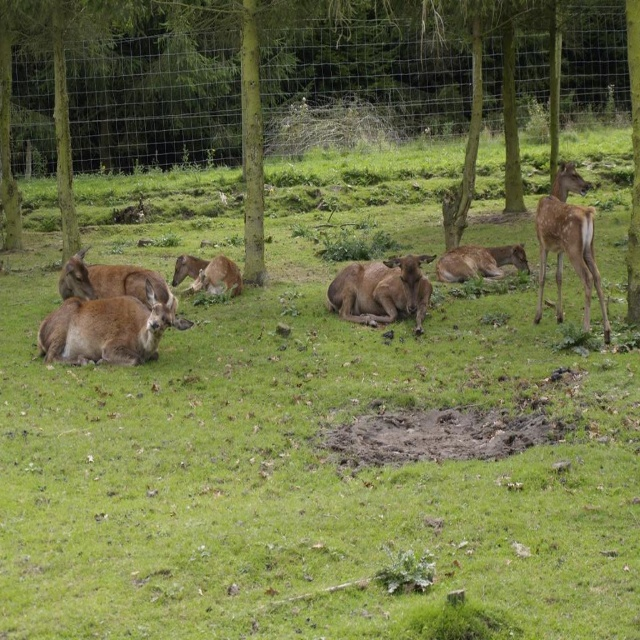Deer: (534, 160, 610, 343), (40, 281, 191, 363), (330, 254, 434, 337), (57, 250, 164, 302), (432, 243, 531, 286), (172, 252, 236, 302)
